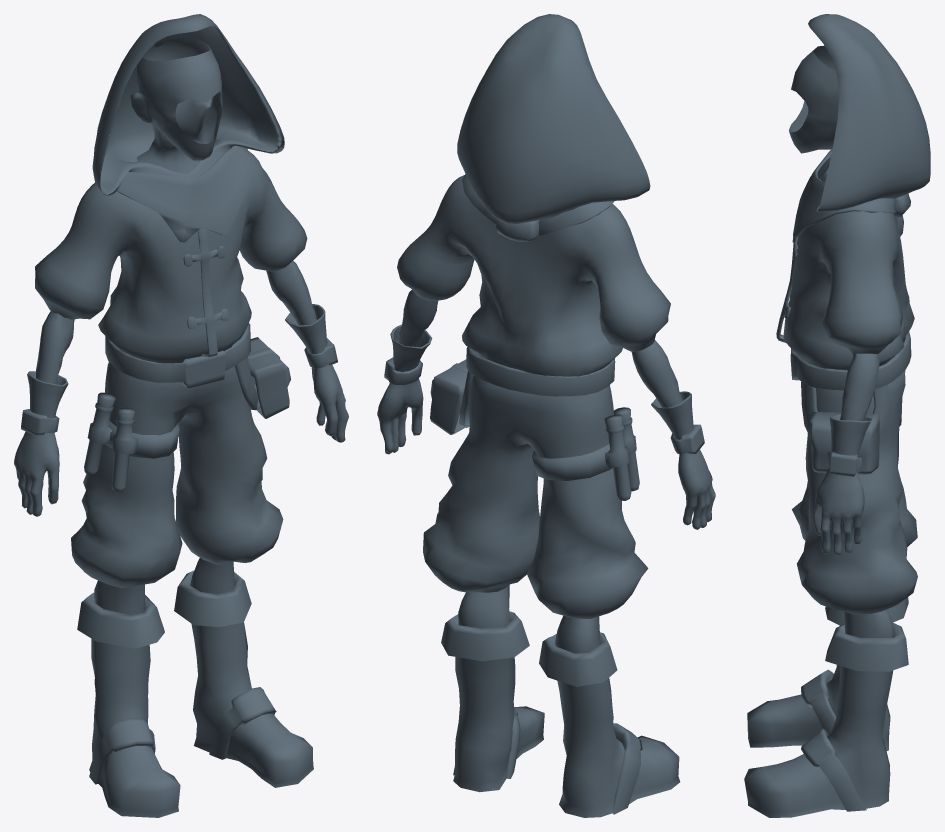
Rendered from body_low.fbx.
The picture shows the model from 3 angles, left to right: view 1: azimuth 30°, elevation 25°; view 2: azimuth 150°, elevation 25°; view 3: azimuth 270°, elevation 25°; orthographic projection.
Parts seen in each view (by area): view 1: clothing_low, detail2_low, skin_low, detail_low; view 2: clothing_low, detail2_low, skin_low, detail_low; view 3: clothing_low, detail2_low, skin_low, detail_low.
Boxes of the visible parts, x1,y1,x2,y2 form: clothing_low: (14, 14, 348, 817); detail2_low: (21, 145, 337, 784); skin_low: (36, 35, 317, 615); detail_low: (84, 228, 258, 491); clothing_low: (377, 14, 715, 817); detail2_low: (384, 174, 704, 814); skin_low: (399, 290, 682, 653); detail_low: (459, 219, 639, 500); clothing_low: (744, 14, 930, 817); detail2_low: (790, 149, 911, 811); skin_low: (789, 45, 893, 637); detail_low: (776, 193, 910, 438).
Size of the model in its own units: 0.8072 by 1.8 by 0.4049.
